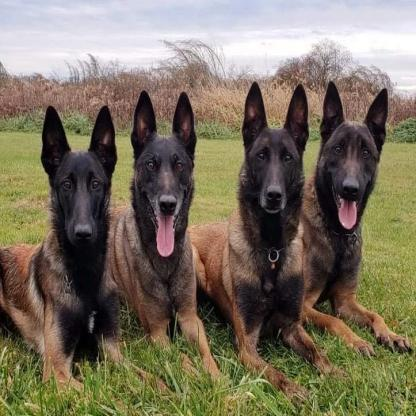Belgian Shepherd: (217, 59, 316, 406), (114, 67, 207, 341), (309, 66, 387, 392), (35, 91, 120, 359)
